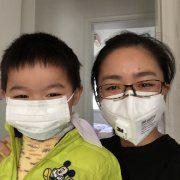OK: (99, 73, 162, 136), (8, 81, 70, 143)
